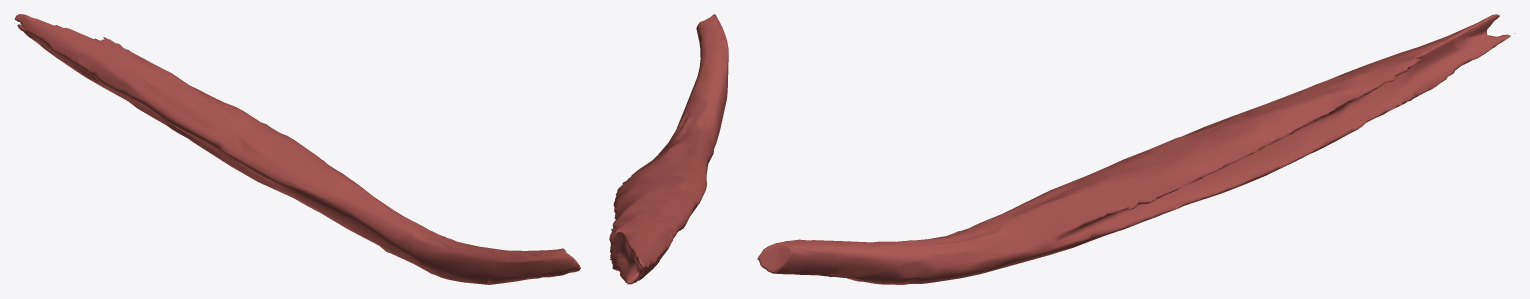
The model's file is FMA37486.glb.
The picture shows the model from 3 angles, left to right: view 1: azimuth 30°, elevation 25°; view 2: azimuth 150°, elevation 25°; view 3: azimuth 270°, elevation 25°; orthographic projection. The views are drawn at different scales.
Visible parts, largest first — view 1: FMA37486; view 2: FMA37486; view 3: FMA37486.
Boxes of the visible parts, left/top/right/bottom form: FMA37486: left=14, top=14, right=580, bottom=284; FMA37486: left=609, top=14, right=728, bottom=284; FMA37486: left=757, top=14, right=1515, bottom=284.
Size of the model in its own units: 0.0286 by 0.0141 by 0.0614.
